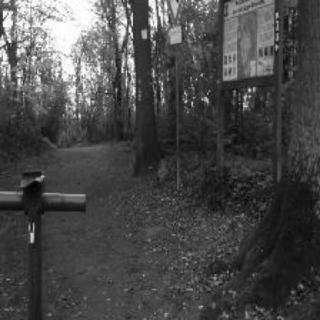other: (0, 160, 101, 227)
